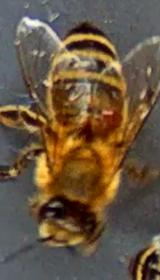varroa_mite: (92, 102, 133, 146)
